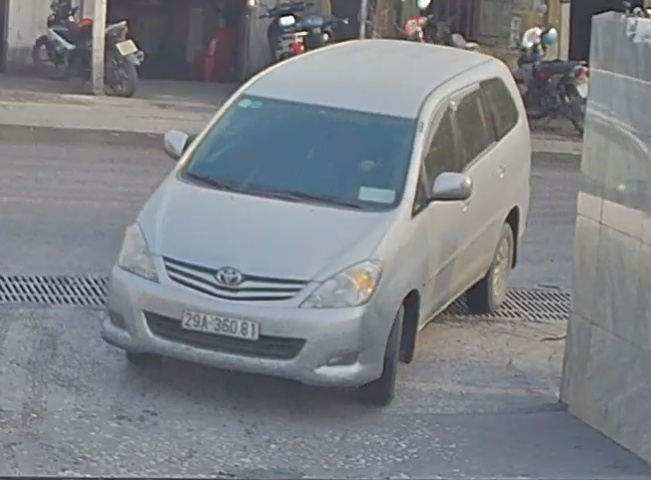vehicle plate: (180, 304, 263, 341)
